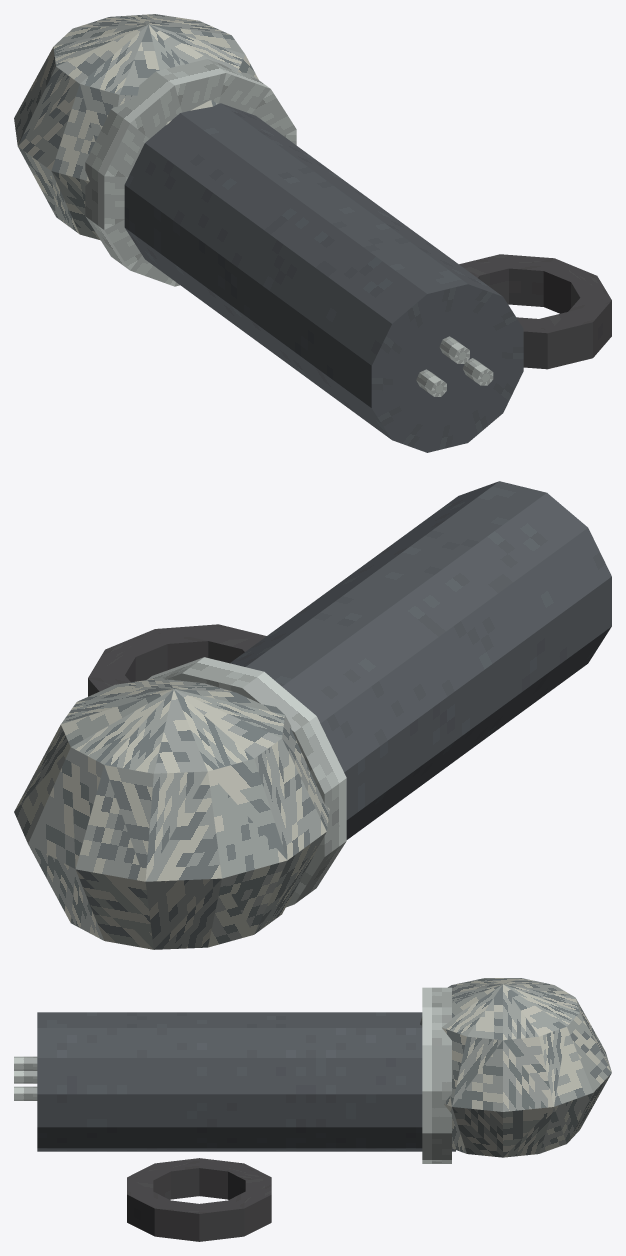
File: microphone_xlr_generic.glb
3 views of the same model, one above another, from view 1: azimuth 30°, elevation 25°; view 2: azimuth 150°, elevation 25°; view 3: azimuth 270°, elevation 25° (orthographic). The views are drawn at different scales.
Parts seen in each view (by area): view 1: block_microphone handle, block_woven grille, block_grille ring, block_loose microphone clip; view 2: block_microphone handle, block_woven grille, block_grille ring, block_loose microphone clip; view 3: block_microphone handle, block_woven grille, block_loose microphone clip, block_grille ring.
Part boxes in pixels (bbox=[...]): block_microphone handle: bbox=[124, 103, 523, 452]; block_woven grille: bbox=[14, 14, 258, 240]; block_grille ring: bbox=[85, 59, 296, 286]; block_loose microphone clip: bbox=[459, 254, 611, 369]; block_microphone handle: bbox=[230, 481, 611, 839]; block_woven grille: bbox=[14, 677, 329, 949]; block_grille ring: bbox=[147, 657, 346, 907]; block_loose microphone clip: bbox=[88, 624, 266, 696]; block_microphone handle: bbox=[37, 1012, 455, 1151]; block_woven grille: bbox=[420, 978, 611, 1157]; block_loose microphone clip: bbox=[127, 1158, 271, 1241]; block_grille ring: bbox=[422, 987, 451, 1163].
Bounding box in the file's own units: 0.0861 × 0.0488 × 0.1557.
1 material, 1 textured.
